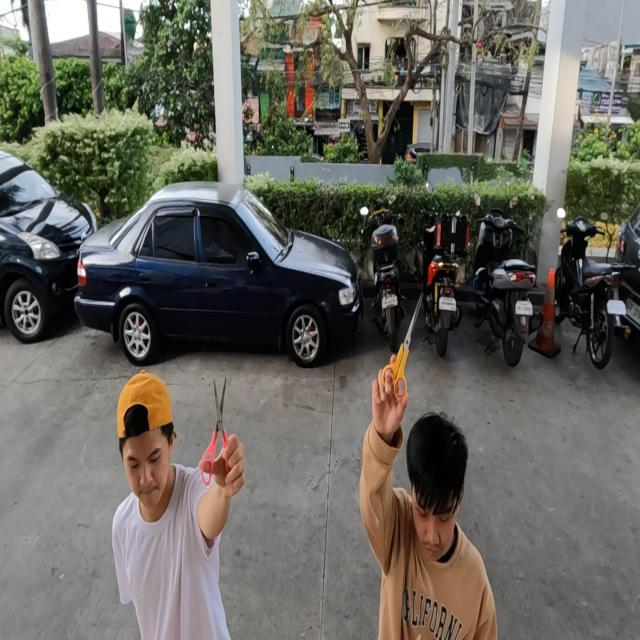scissor: (382, 291, 423, 399), (201, 376, 233, 486)
